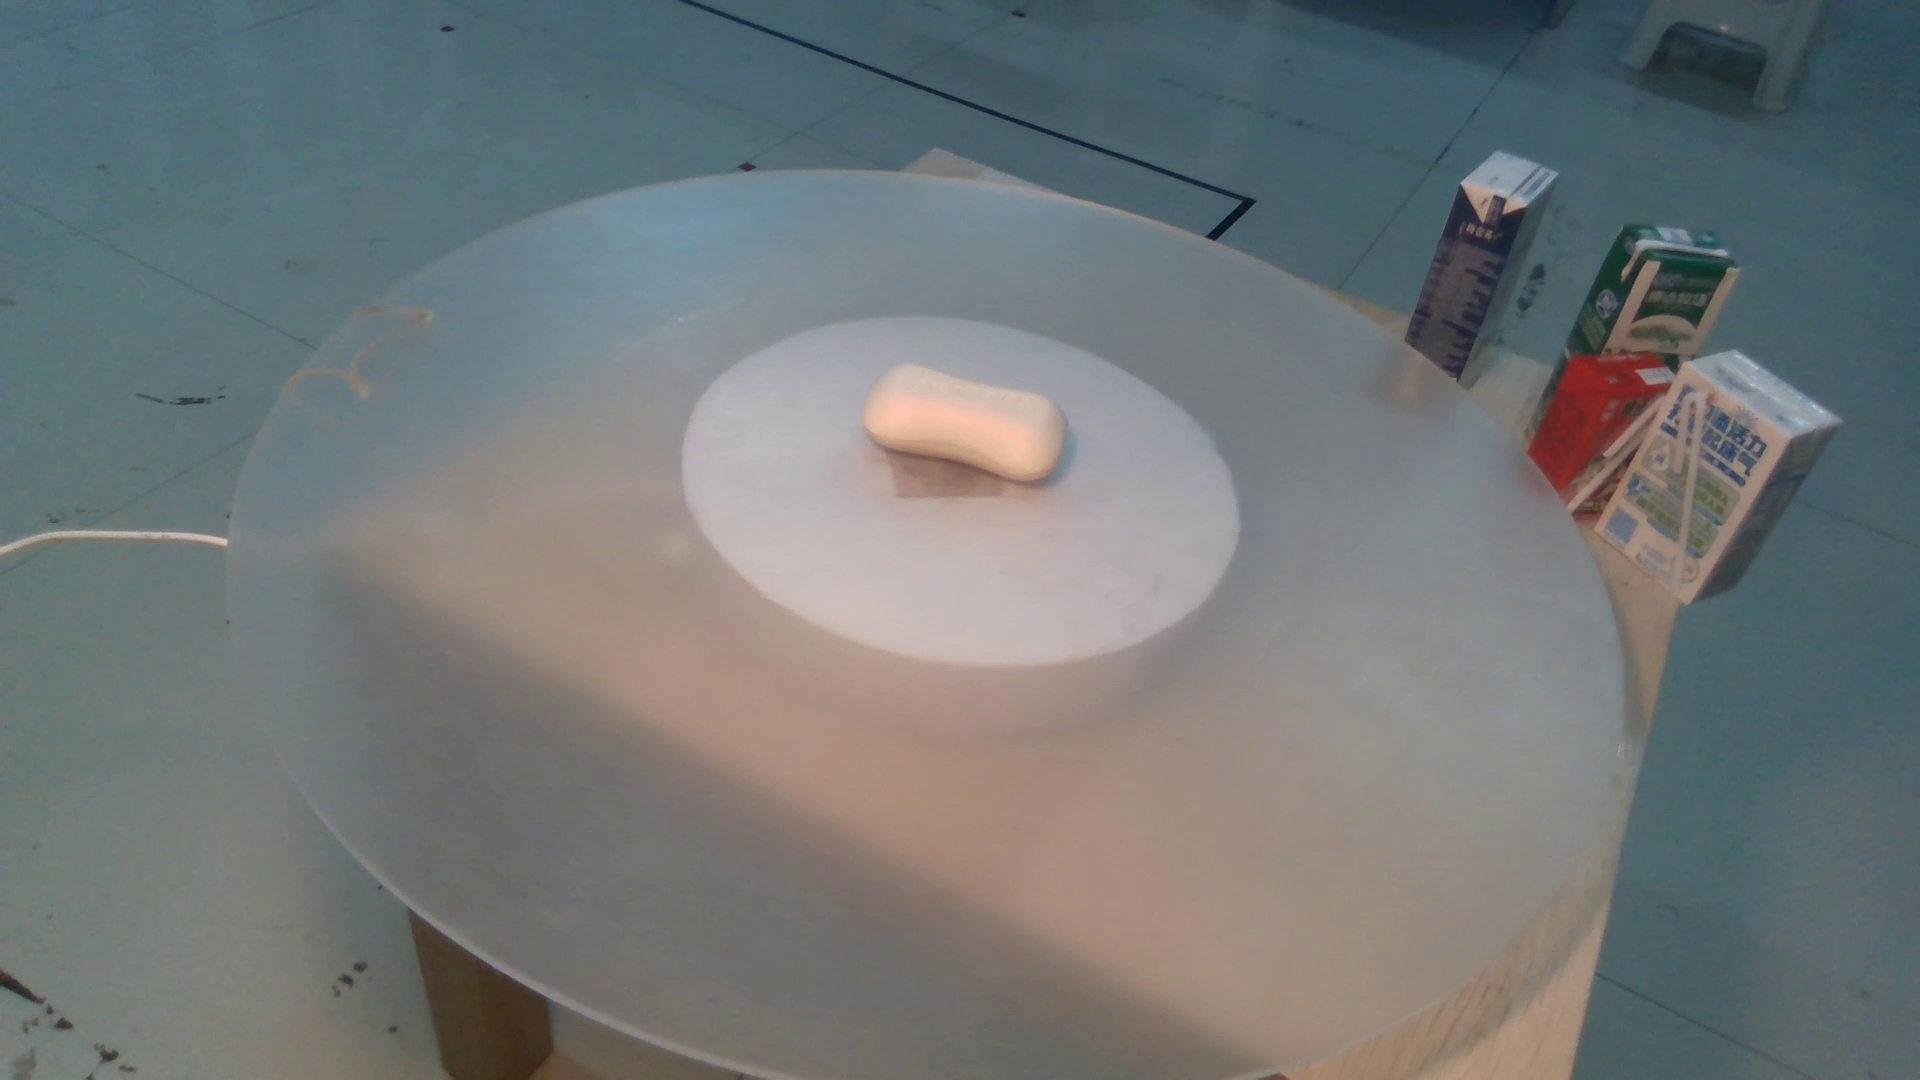CA003_1: (843, 344, 1105, 489)
